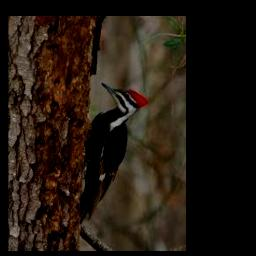Woodpecker: (79, 83, 147, 223)
